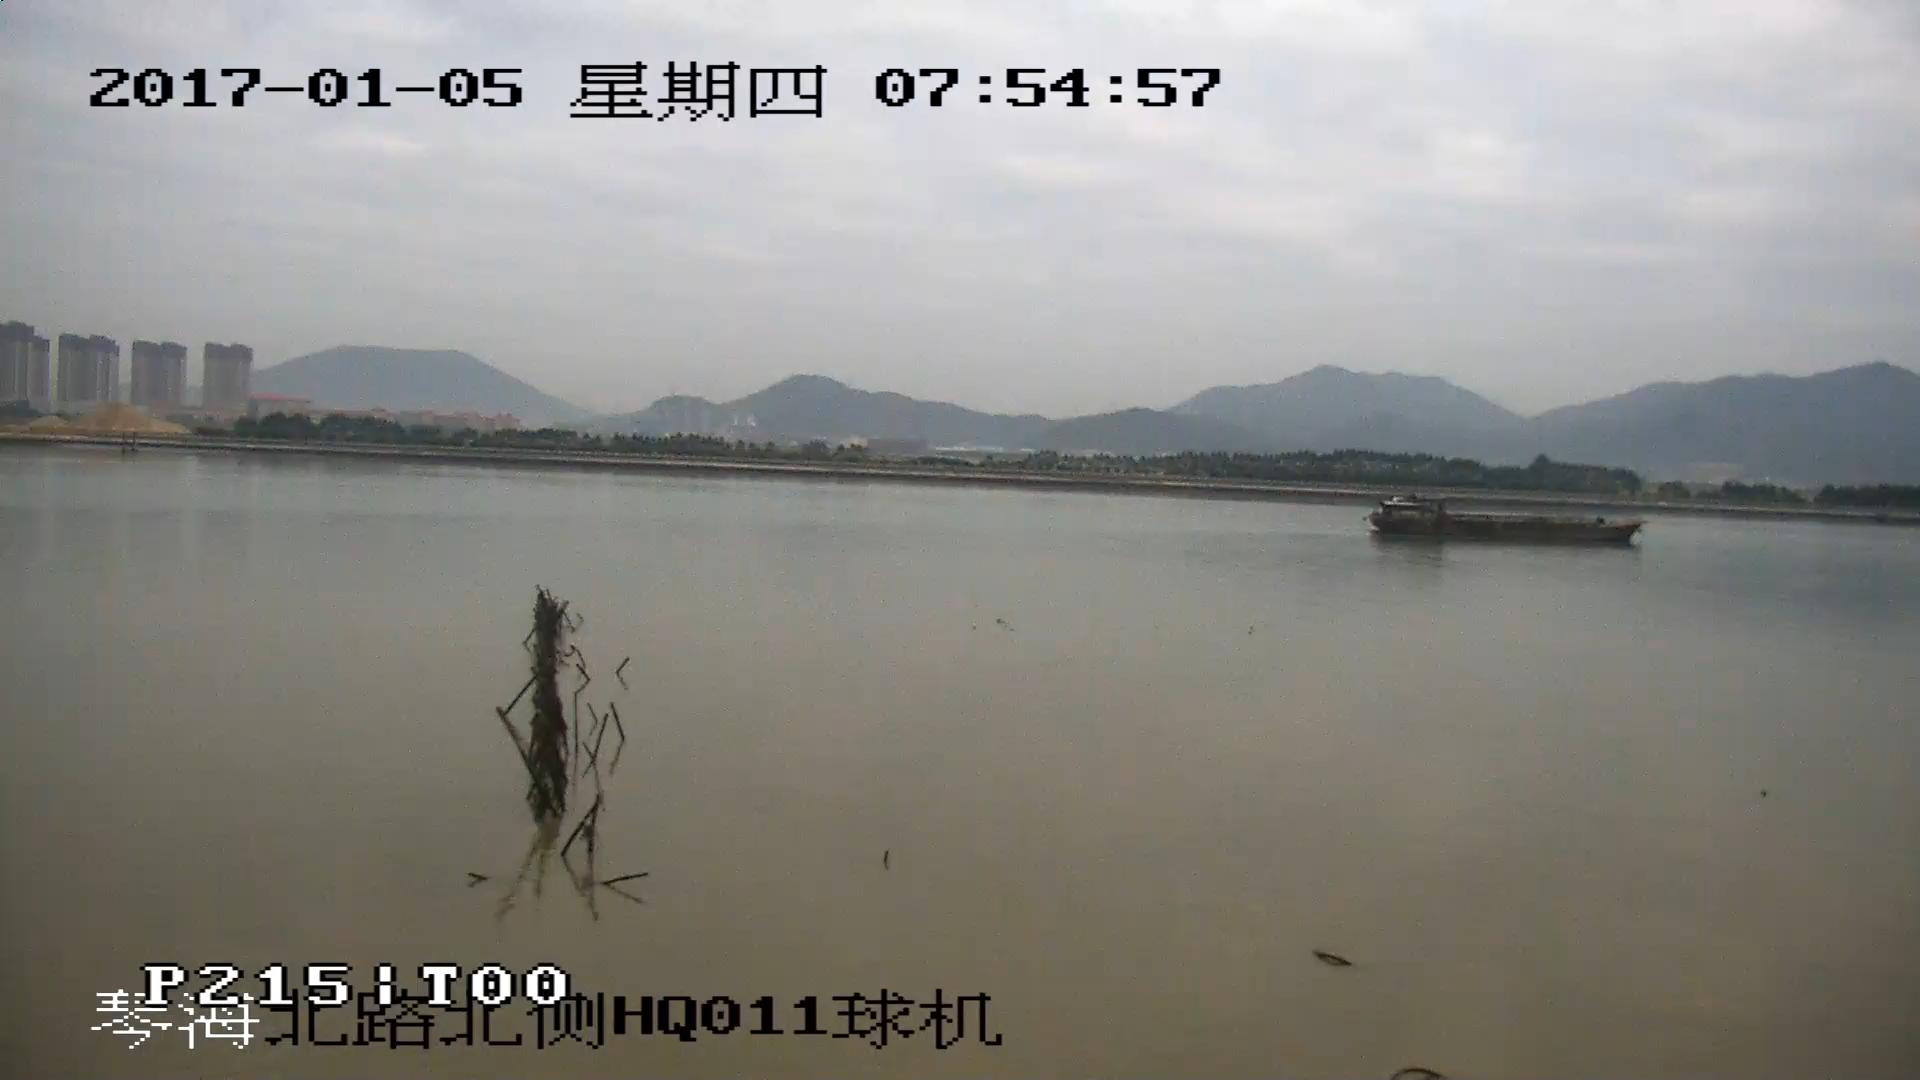bulk cargo carrier: (1363, 496, 1644, 544)
